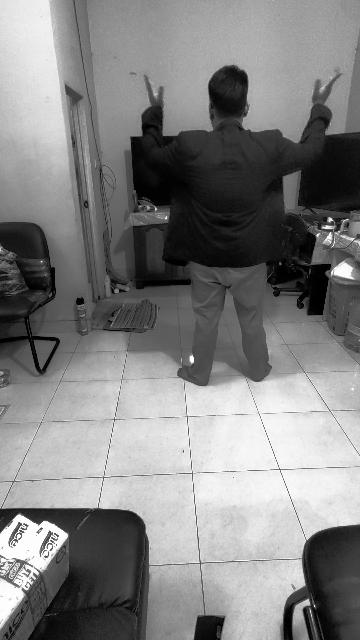berdiri: (134, 71, 340, 382)
